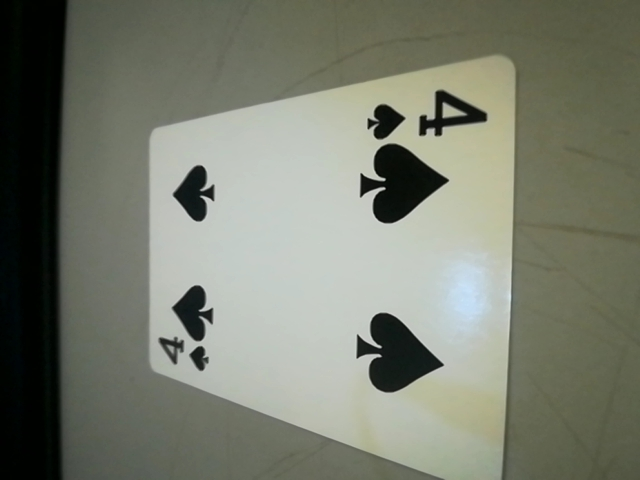ht 4: (362, 85, 496, 149)
